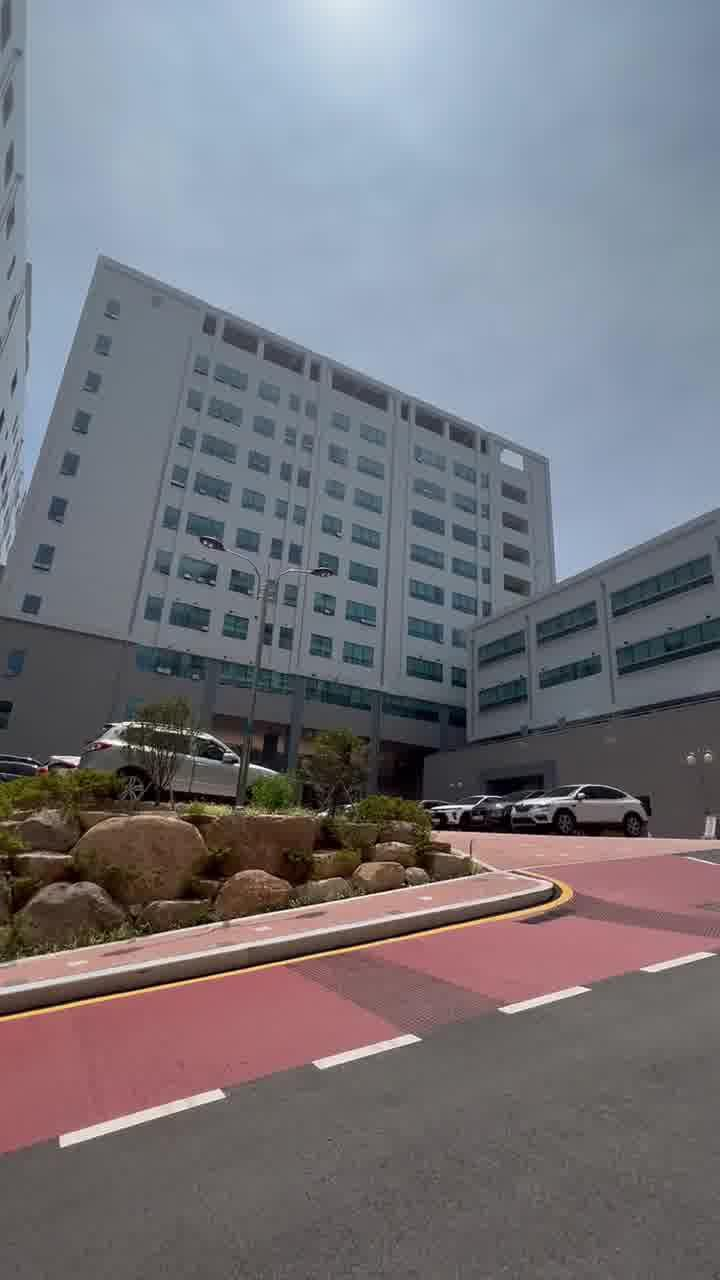building: (54, 266, 636, 776)
